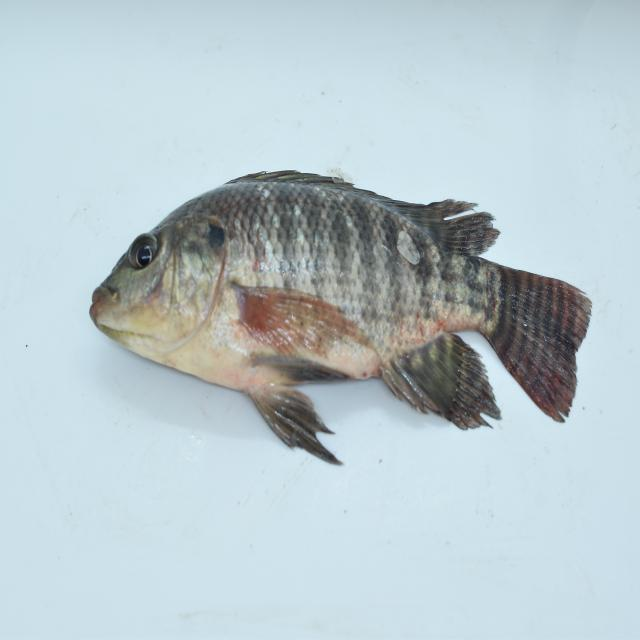Columnaris Disease: (63, 140, 612, 479)
